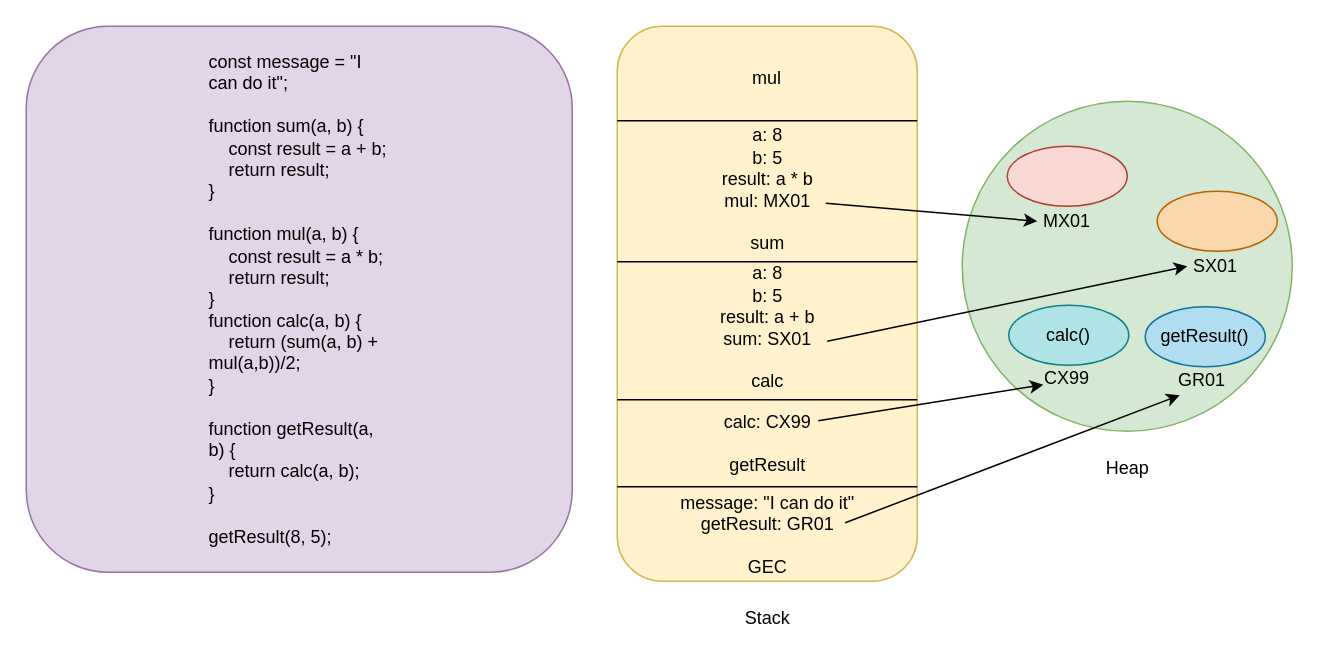
Image size: 1319x668. Some labels were removed from this diagram. The centre of each missing label's shape, as x and y in pixels:
"mul()" goes at point 1066,175.
"sum()" goes at point 1216,220.
